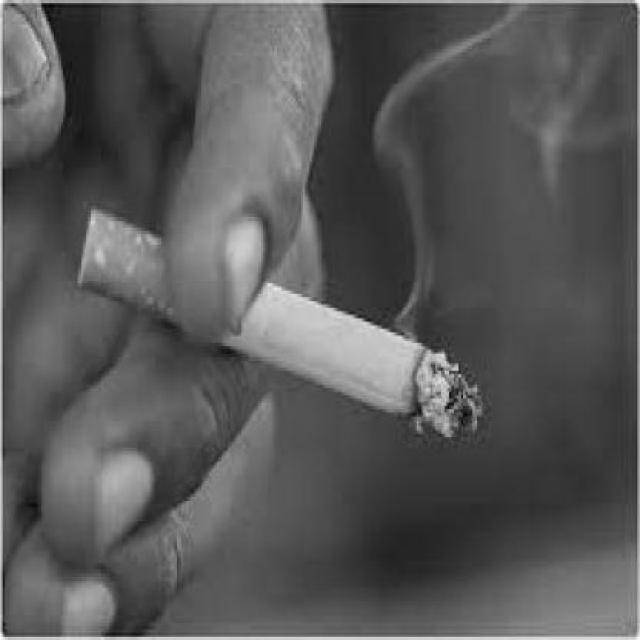cigarette: (80, 203, 485, 440)
